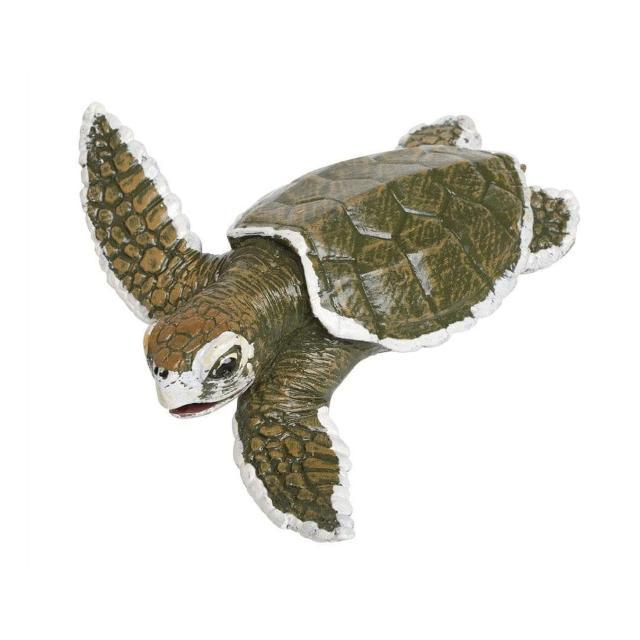turtle: (78, 102, 578, 544)
